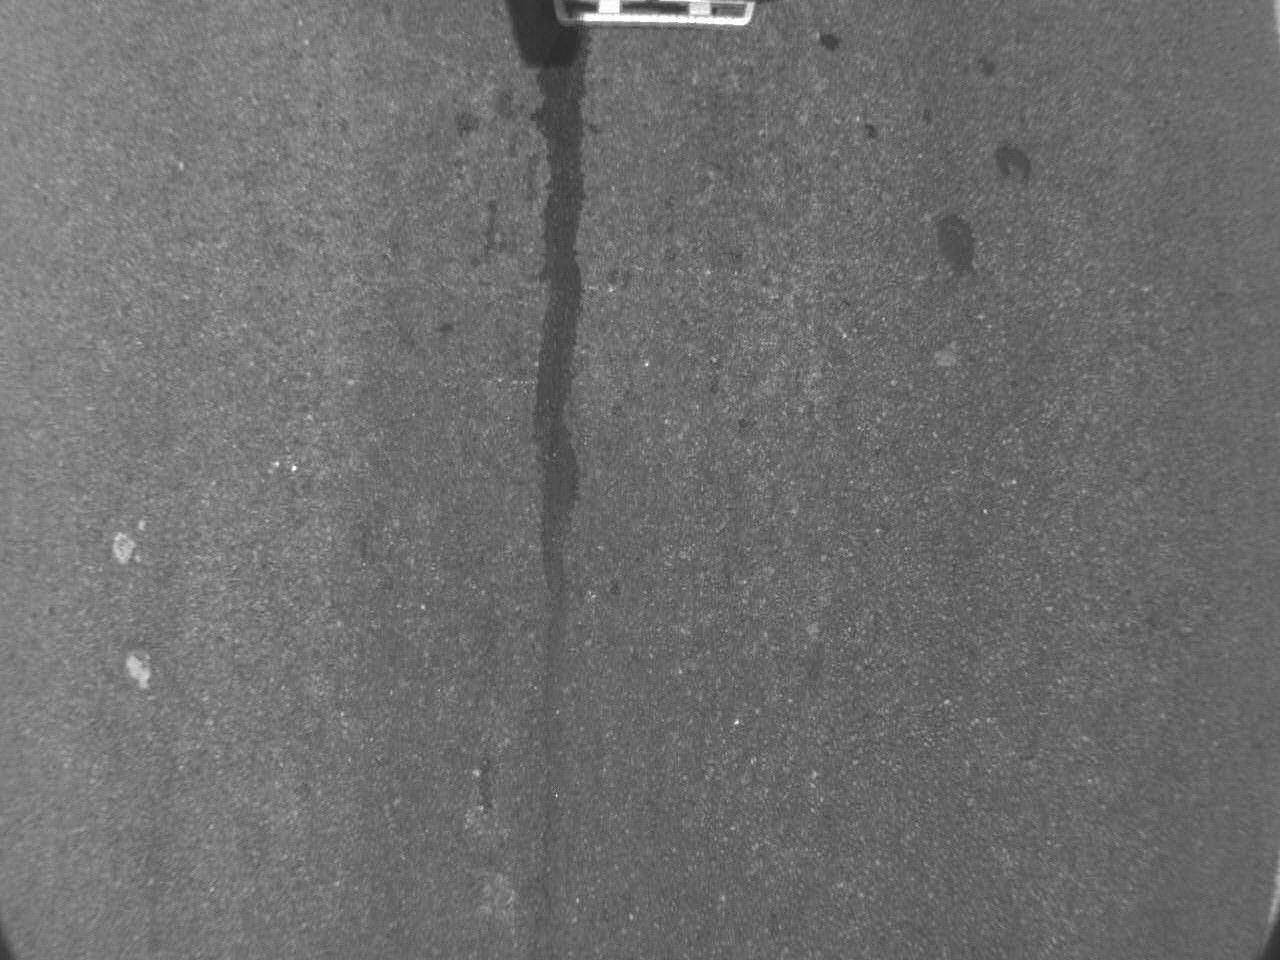sealed: (486, 6, 604, 539)
